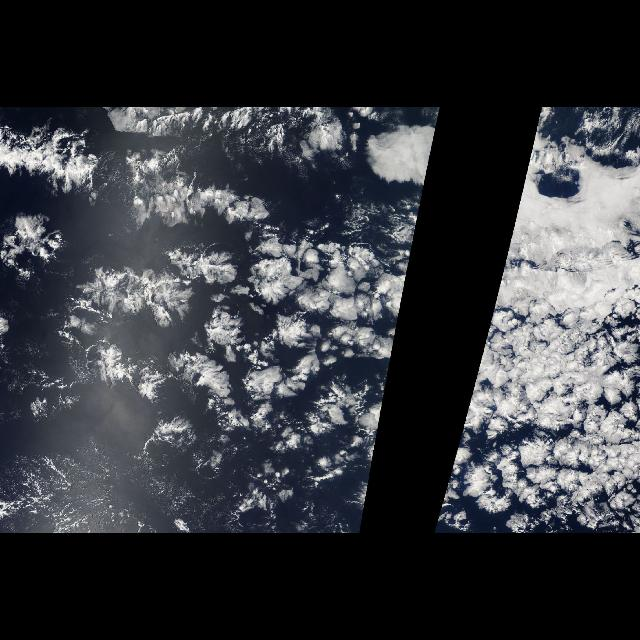Flower: (64, 109, 440, 533), (432, 109, 640, 533)
